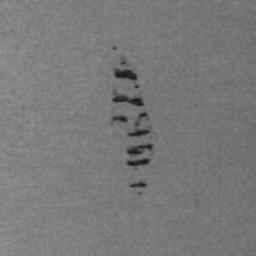Secondary rust skin: (111, 89, 152, 138), (125, 142, 155, 168), (111, 60, 139, 82), (128, 179, 148, 189), (111, 113, 129, 123)
